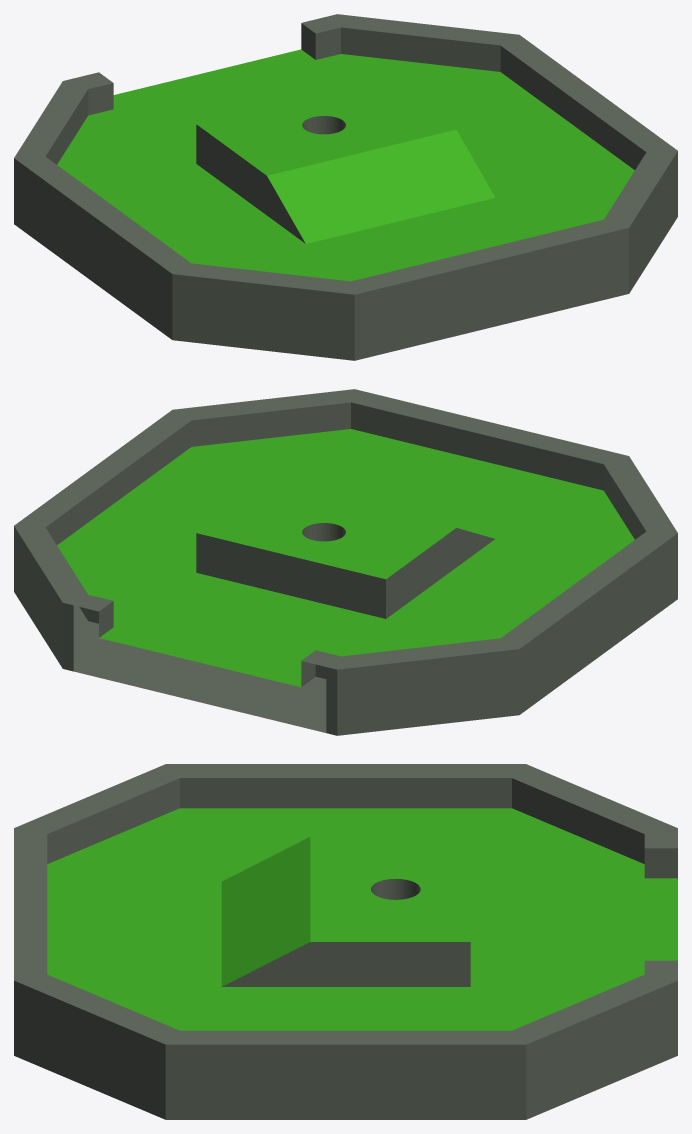
File: HoleOctReverseRamp.fbx
3 views of the same model, one above another, from view 1: azimuth 30°, elevation 25°; view 2: azimuth 150°, elevation 25°; view 3: azimuth 270°, elevation 25° (orthographic). The views are drawn at different scales.
Visible parts, largest first — view 1: Plane.024; view 2: Plane.024; view 3: Plane.024.
Boxes of the visible parts, <box> form: Plane.024: <box>14,14,677,360</box>; Plane.024: <box>14,389,677,735</box>; Plane.024: <box>14,764,677,1119</box>.
Size of the model in its own units: 400 by 60 by 400.
